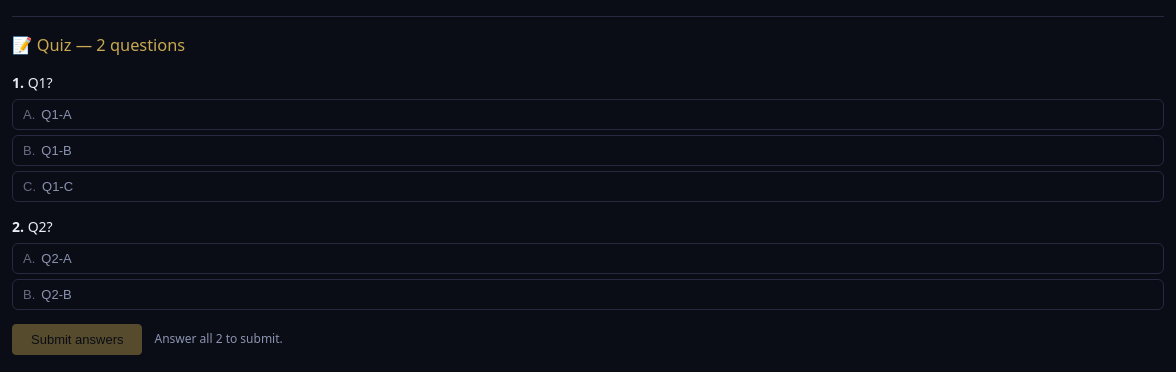
Test: Quiz › scores answers and saves the result to the account
Expected: the button "Submit answers" is disabled, [12, 324, 142, 355]
Click the button "B.Q1-B".
click(56, 150)  # box [12, 135, 1164, 166]
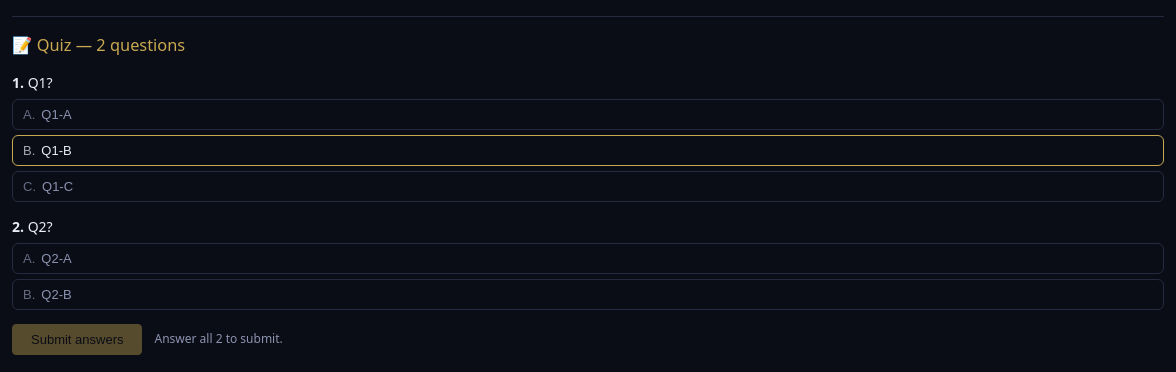
Click the button "A.Q2-A".
click(56, 258)  # box [12, 243, 1164, 274]
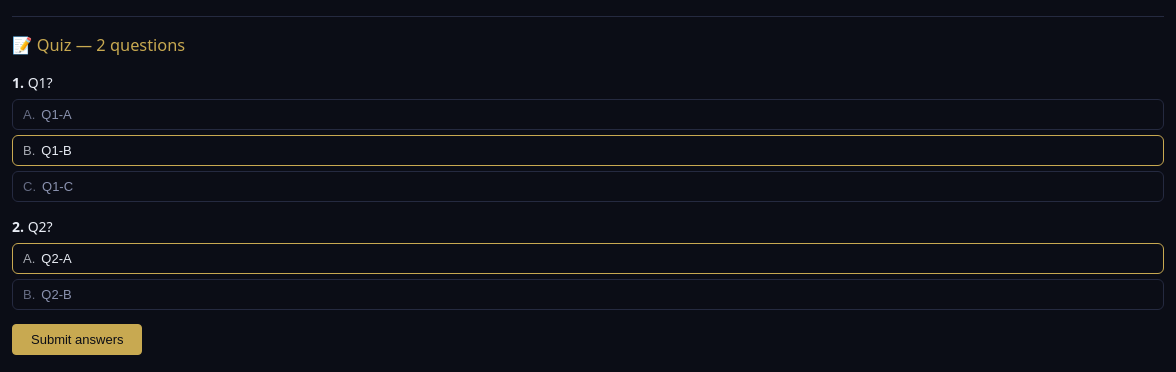
Click the button "Submit answers".
click(77, 339)  # box [12, 324, 142, 355]
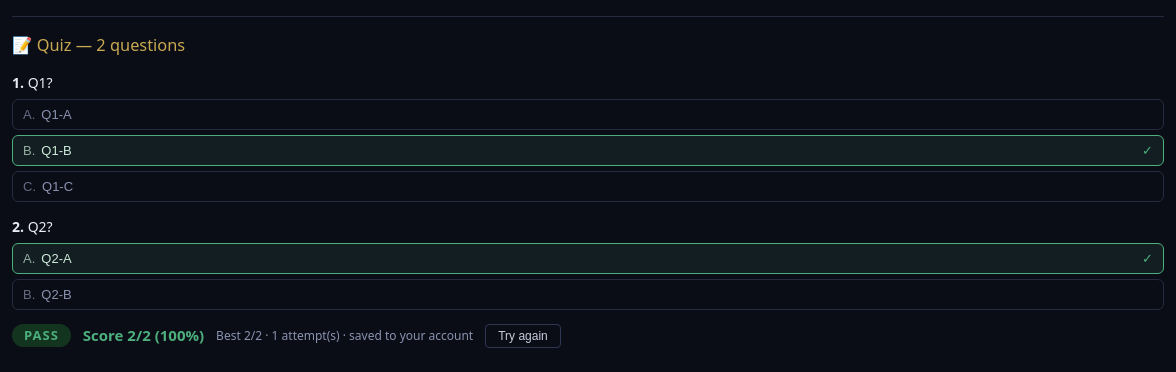
Expected: the text "Score 2/2 (100%)" is shown, [83, 324, 204, 347]
Expected: the text "PASS" is shown, [12, 324, 71, 347]
Expected: the text "Best 2/2 · 1 attempt(s) · saved to your account" is shown, [216, 327, 473, 345]
